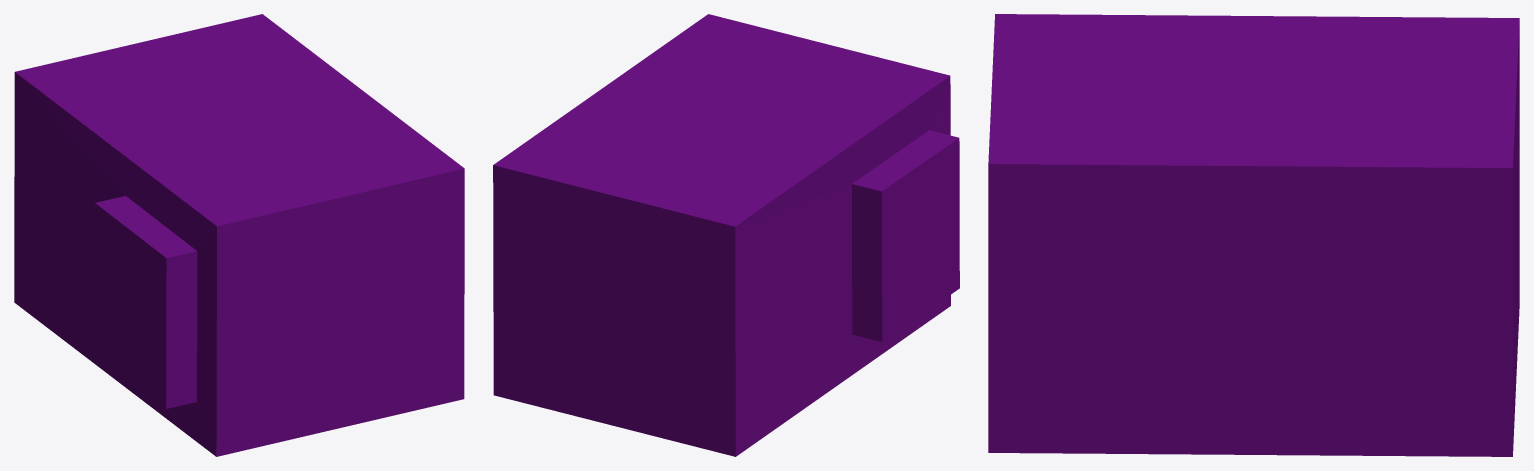
File: part_0_opt_2.obj
3 views of the same model, side by side, from view 1: azimuth 30°, elevation 25°; view 2: azimuth 150°, elevation 25°; view 3: azimuth 270°, elevation 25° (orthographic). The views are drawn at different scales.
Visible parts, largest first — view 1: Box057; view 2: Box057; view 3: Box057.
Boxes of the visible parts, bbox=[...] form: Box057: bbox=[14, 14, 464, 456]; Box057: bbox=[493, 14, 959, 456]; Box057: bbox=[988, 14, 1519, 456].
Size of the model in its own units: 27.62 by 21.57 by 35.91.
